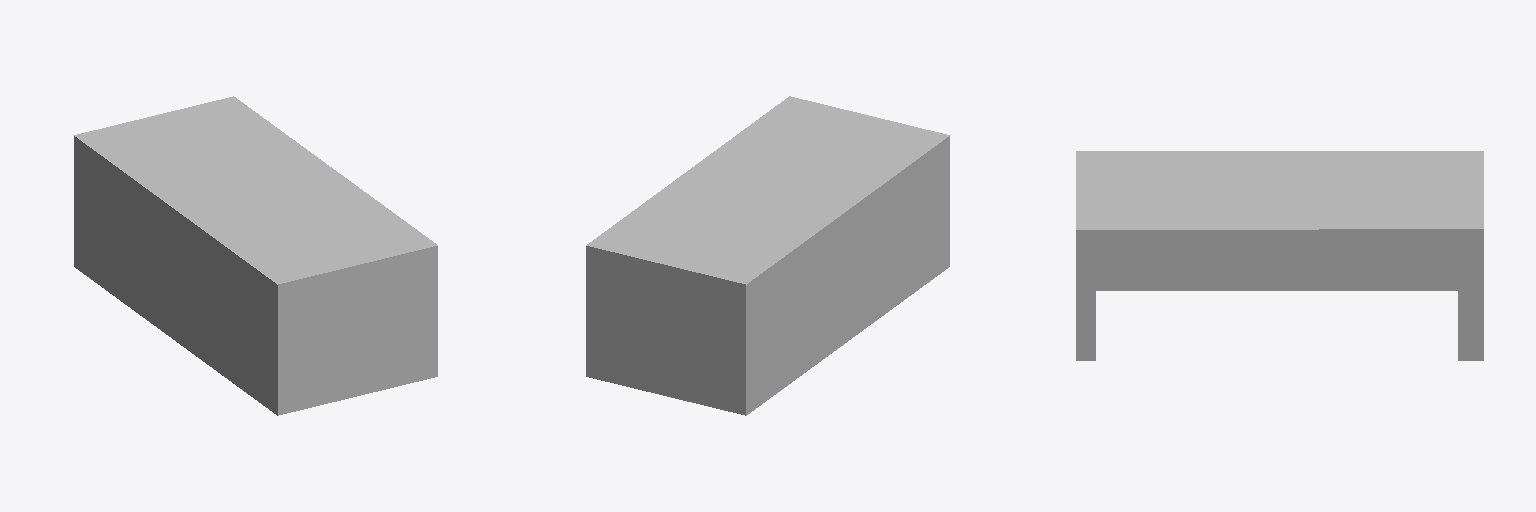
Rendered from desk.obj.
The picture shows the model from 3 angles: view 1: azimuth 30°, elevation 25°; view 2: azimuth 150°, elevation 25°; view 3: azimuth 270°, elevation 25°; orthographic projection.
Visible parts, largest first — view 1: Cube; view 2: Cube; view 3: Cube.
Part boxes in pixels (x1,y1,x2,y2): Cube: (74, 96, 437, 415); Cube: (586, 96, 949, 415); Cube: (1076, 151, 1483, 360).
Size of the model in its own units: 0.91 by 0.7096 by 2.